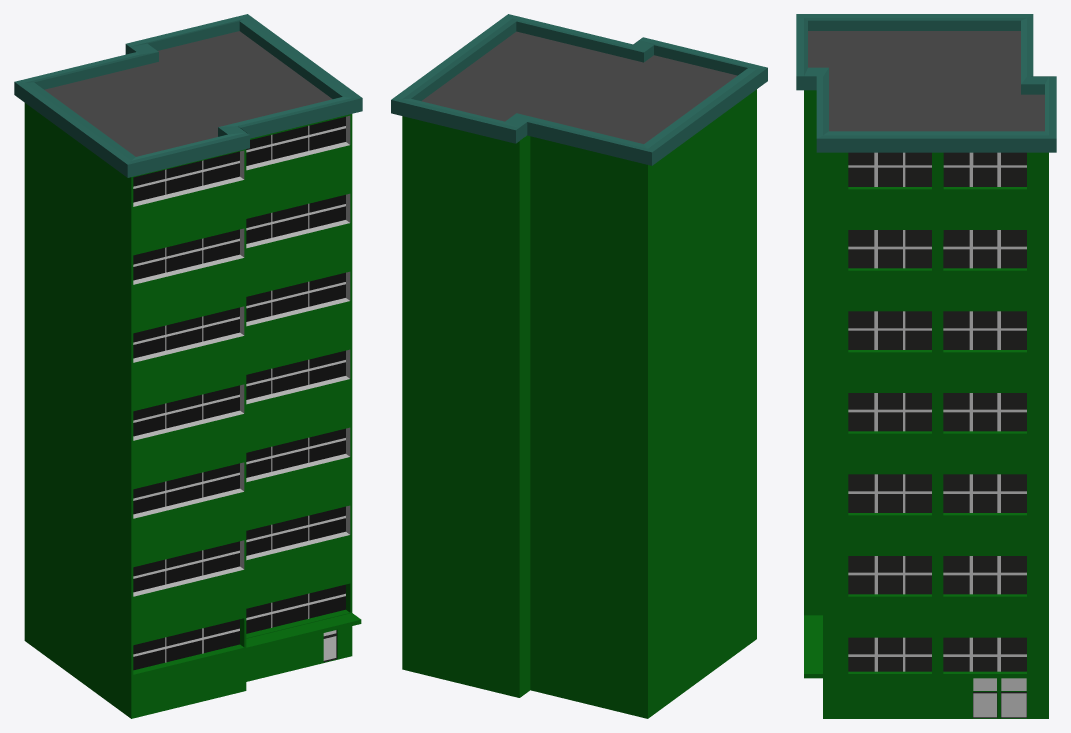
The model's file is apt-9.glb.
The picture shows the model from 3 angles, left to right: view 1: azimuth 30°, elevation 25°; view 2: azimuth 150°, elevation 25°; view 3: azimuth 270°, elevation 25°; orthographic projection. The views are drawn at different scales.
Size of the model in its own units: 1.97 by 4.31 by 1.74.
